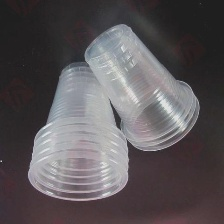glass: (79, 17, 211, 154), (26, 55, 134, 204)
